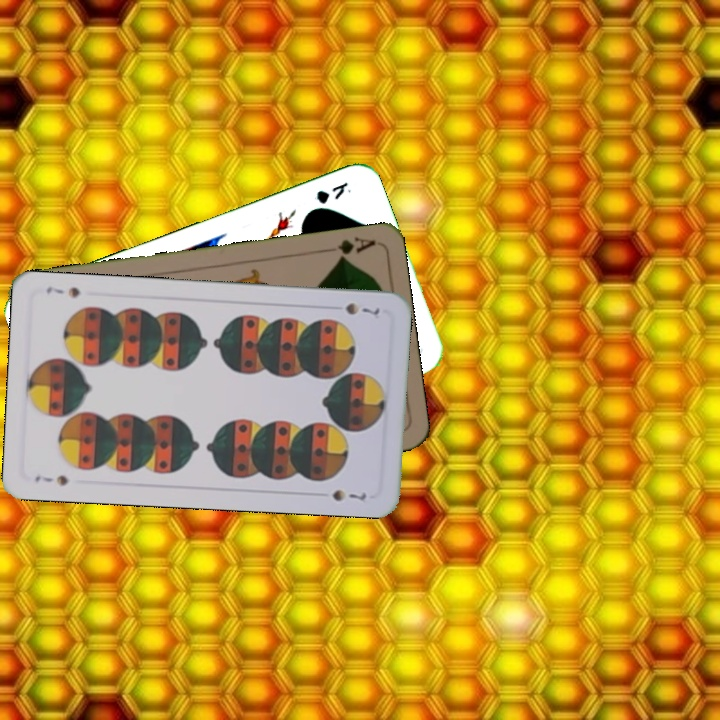GA: (319, 233, 378, 264)
GK: (312, 177, 354, 207)
S7: (341, 299, 382, 318), (31, 471, 71, 488)
